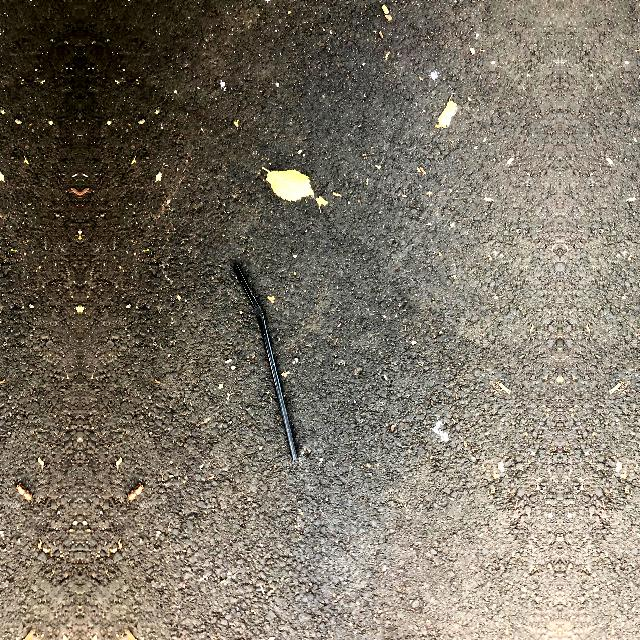Plastic: (224, 252, 310, 478)
